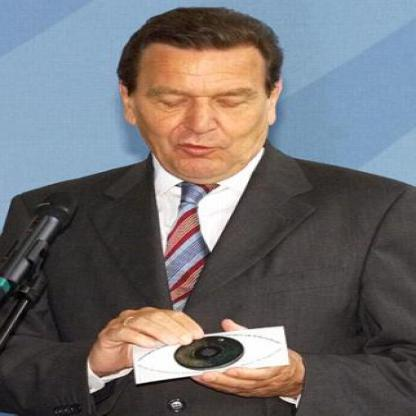face: (136, 17, 273, 183)
